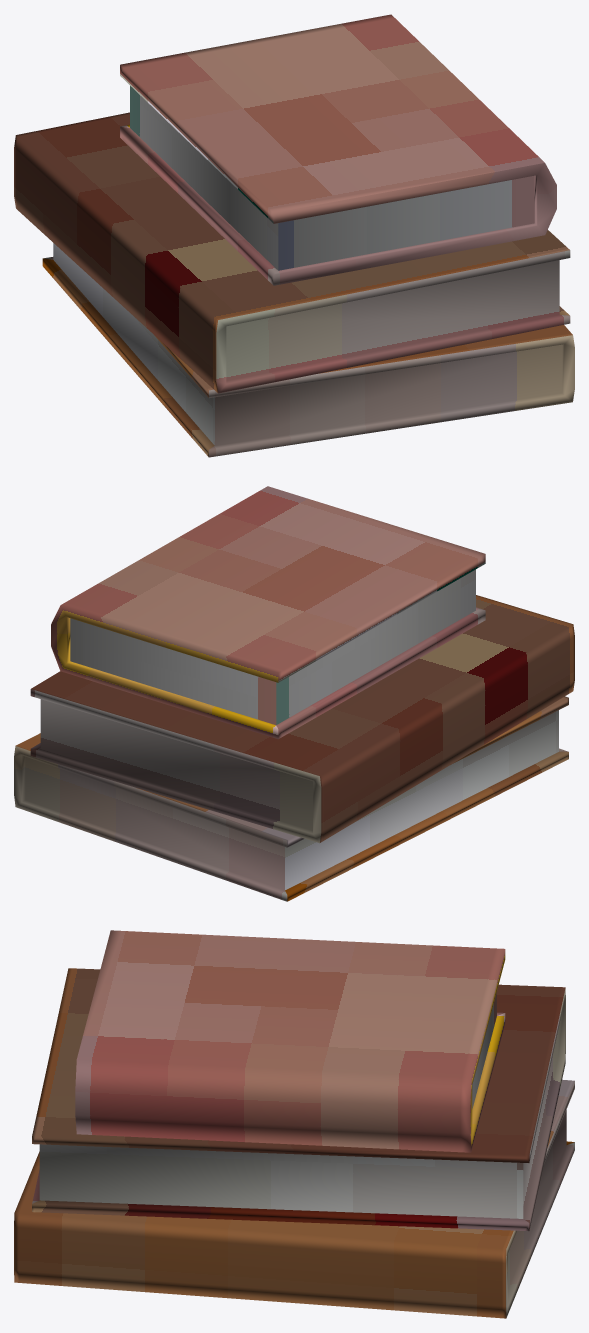
The model's file is a_sch_entrance01_obj_book04.gltf.
3 views of the same model, one above another, from view 1: azimuth 30°, elevation 25°; view 2: azimuth 150°, elevation 25°; view 3: azimuth 270°, elevation 25° (orthographic). The views are drawn at different scales.
Visible parts, largest first — view 1: a_sch_entrance01_obj_book04_mesh_shape:a_sch_office01_shelfb; view 2: a_sch_entrance01_obj_book04_mesh_shape:a_sch_office01_shelfb; view 3: a_sch_entrance01_obj_book04_mesh_shape:a_sch_office01_shelfb.
Boxes of the visible parts, left/top/right/bottom form: a_sch_entrance01_obj_book04_mesh_shape:a_sch_office01_shelfb: left=14, top=14, right=574, bottom=457; a_sch_entrance01_obj_book04_mesh_shape:a_sch_office01_shelfb: left=14, top=486, right=574, bottom=901; a_sch_entrance01_obj_book04_mesh_shape:a_sch_office01_shelfb: left=14, top=930, right=574, bottom=1318.
Bounding box in the file's own units: 0.3321 × 0.1702 × 0.3855.
Materials: 1 (1 with a texture image).
